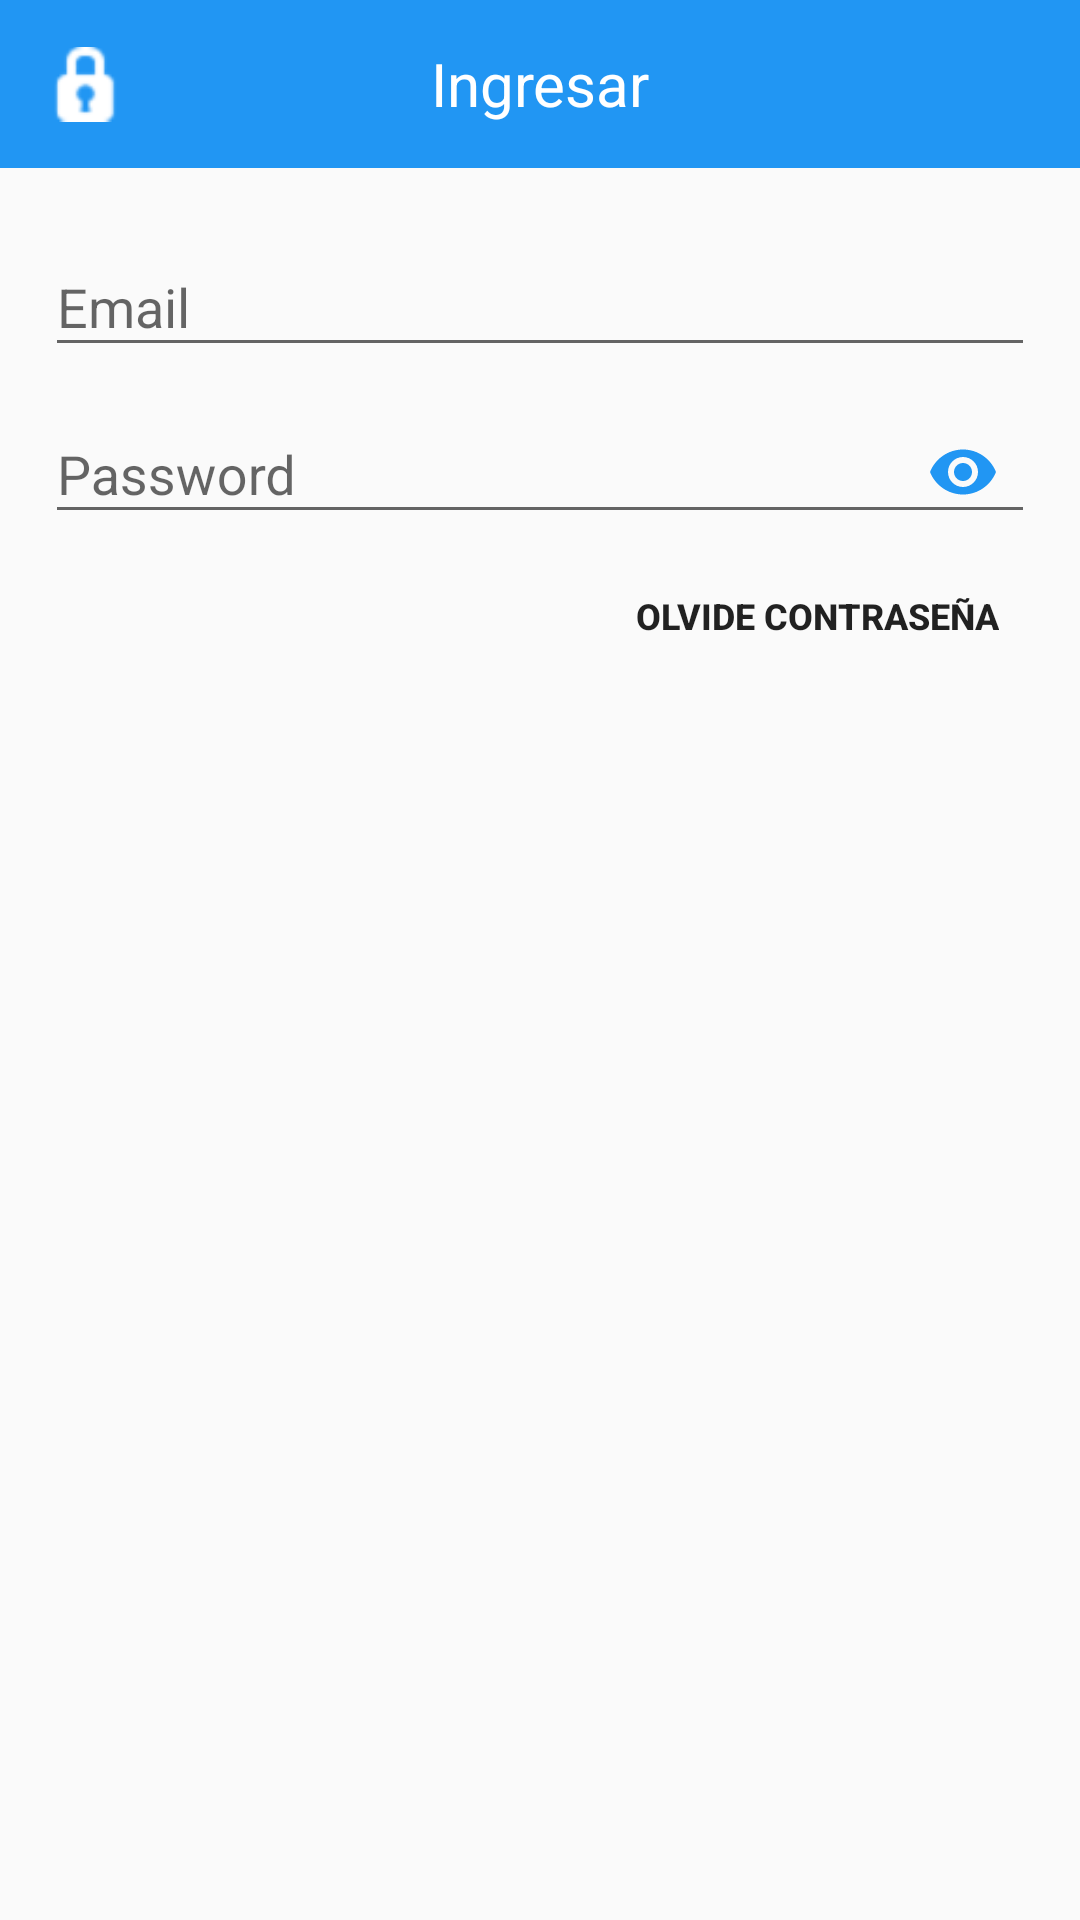

Where icons sit on this 1080×1920 app screen, as bbox(x1, y1, x2, y2):
secure: bbox(56, 47, 115, 122)
